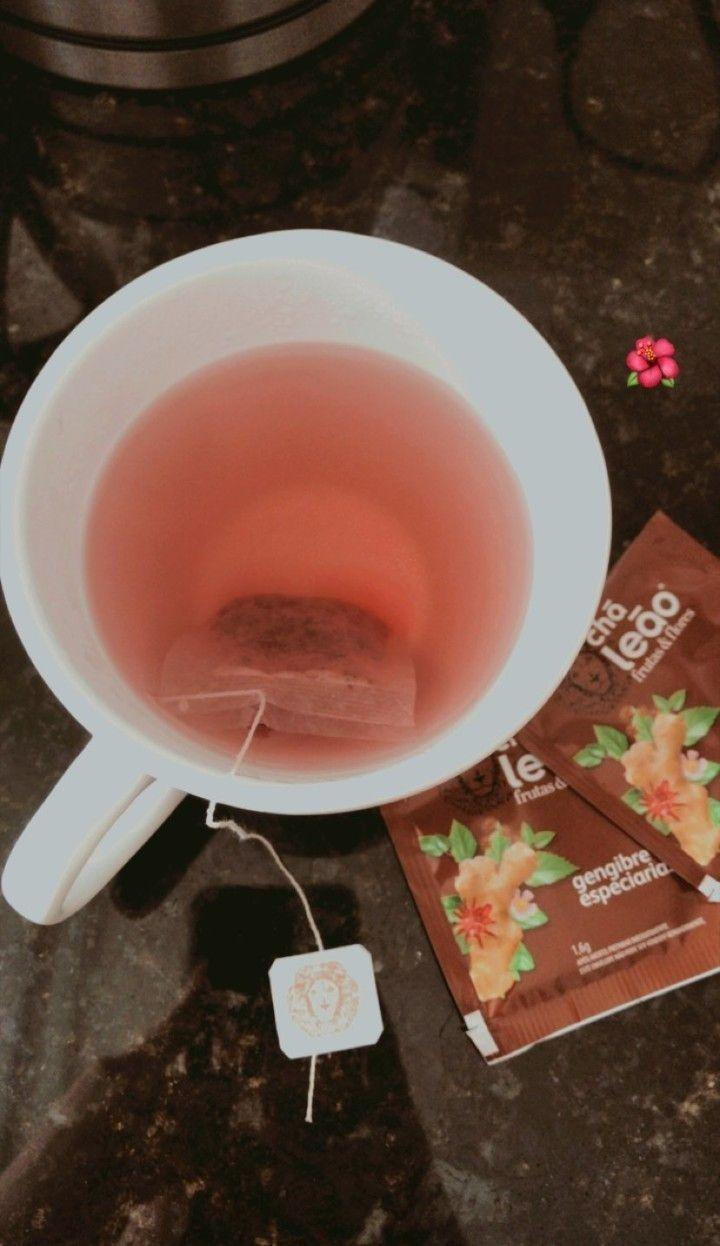cup-handle: (0, 225, 614, 927)
